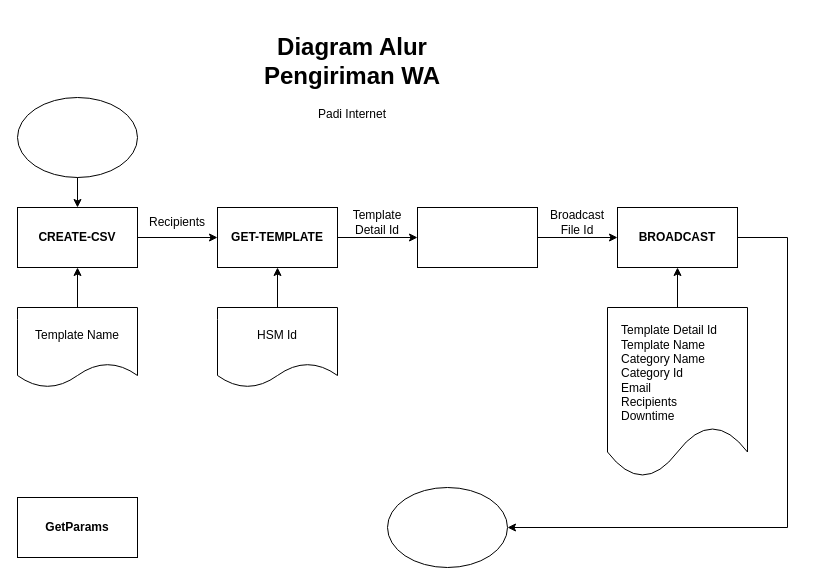
The diagram is 813 pixels wide and 585 high, and some of its shapes have lost their labels. Here are the shapes that lost their labels. From the top down, the centre of each, then its label:
the point at 77,137: Mulai
the point at 477,237: UPLOAD-CSV
the point at 447,527: Berakhir
